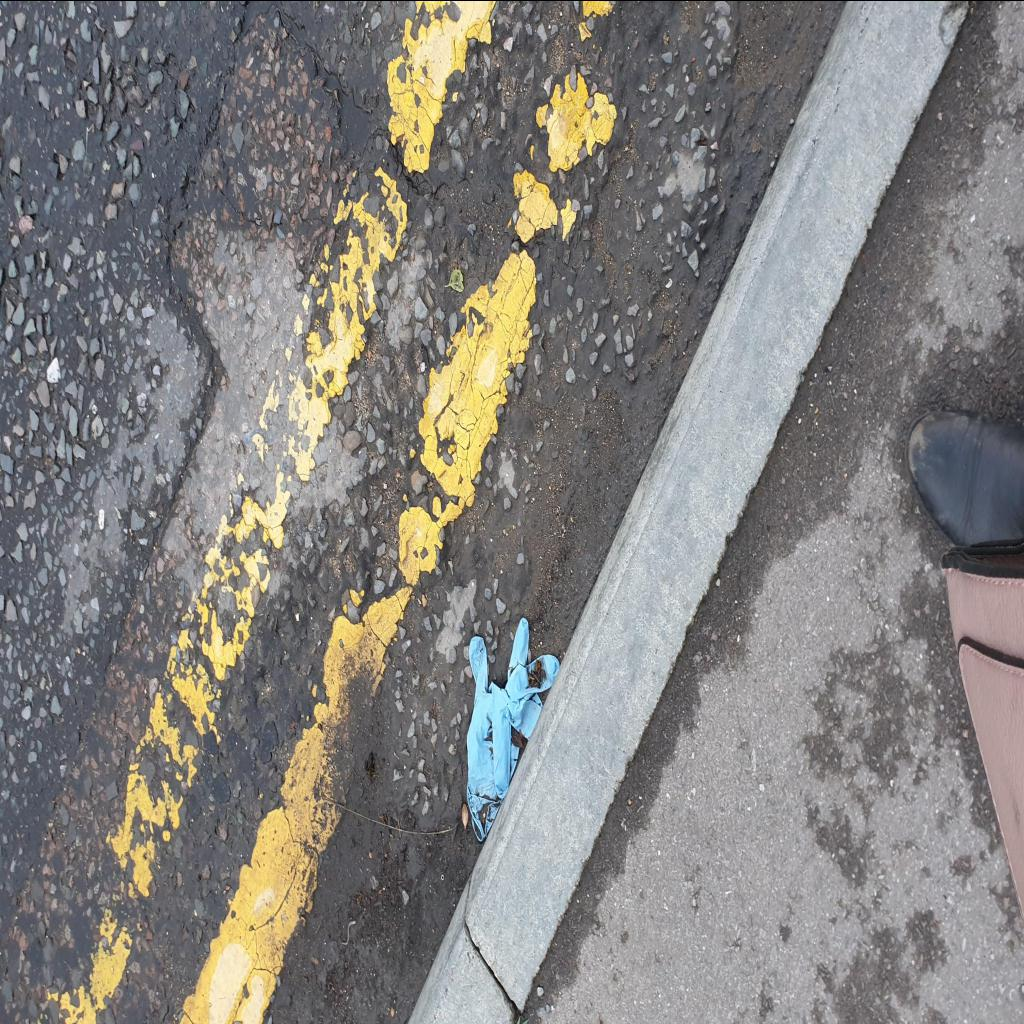Plastic glooves: (466, 616, 560, 840)
